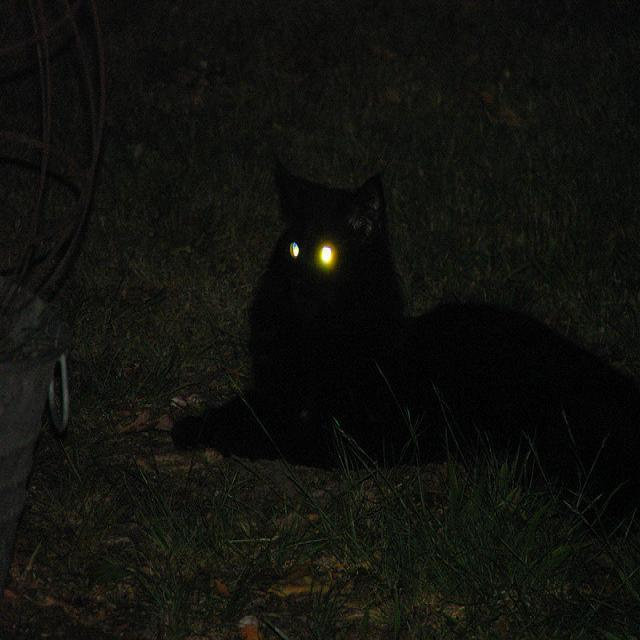Cat: (215, 168, 640, 540)
